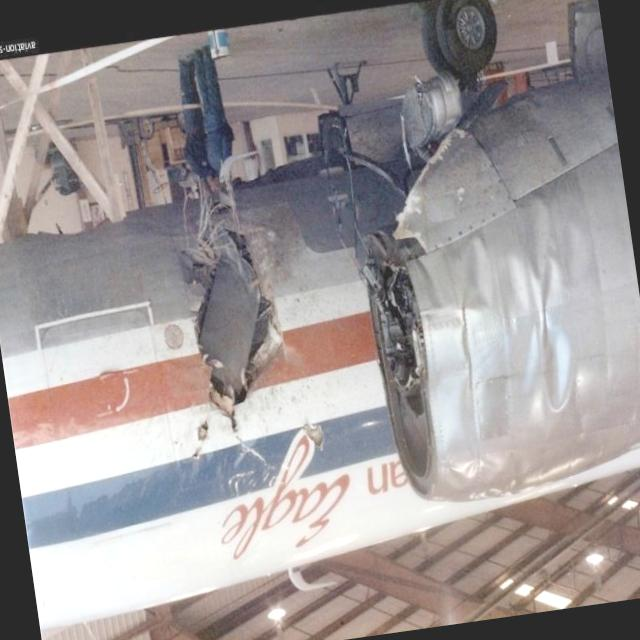dent: (408, 207, 600, 449)
